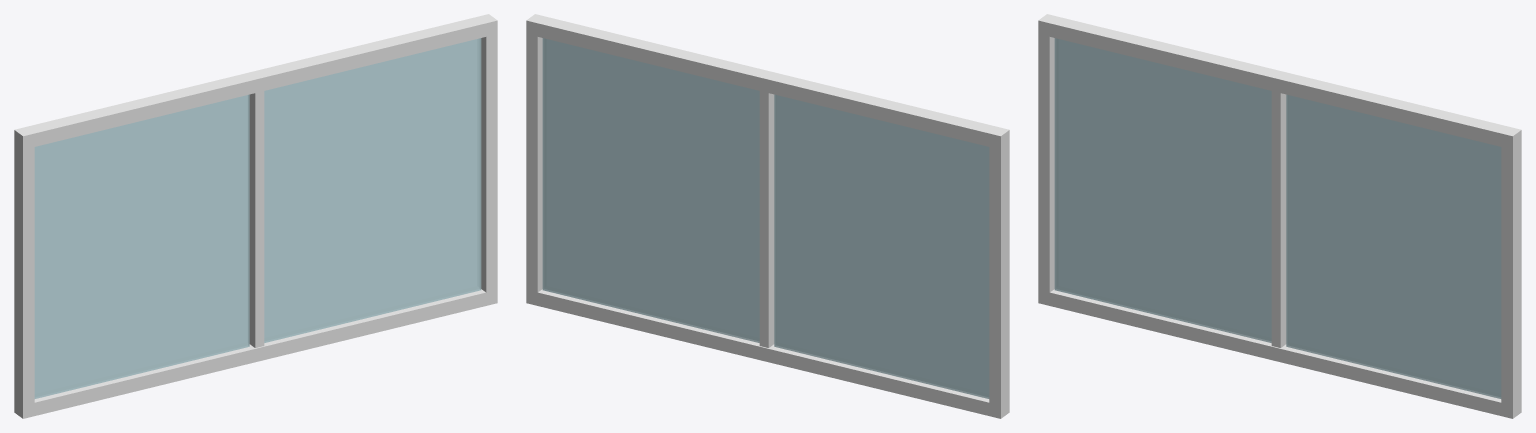
The model's file is baranda-blanco-esmerilado.glb.
3 views of the same model, side by side, from view 1: azimuth 30°, elevation 25°; view 2: azimuth 150°, elevation 25°; view 3: azimuth 330°, elevation 25° (orthographic).
Parts seen in each view (by area): view 1: glass0.45, glass-0.45, rail1.0250000000000001, rail0.025, post-0.9, post0.9, center; view 2: glass0.45, glass-0.45, rail1.0250000000000001, rail0.025, post-0.9, post0.9, center; view 3: glass-0.45, glass0.45, rail1.0250000000000001, rail0.025, post0.9, post-0.9, center.
Boxes of the visible parts, <box> form: glass0.45: <box>264,38,481,342</box>; glass-0.45: <box>34,94,249,398</box>; rail1.0250000000000001: <box>26,15,491,147</box>; rail0.025: <box>29,289,491,415</box>; post-0.9: <box>14,127,34,418</box>; post0.9: <box>478,14,497,305</box>; center: <box>248,71,264,347</box>; glass0.45: <box>542,38,759,342</box>; glass-0.45: <box>774,94,989,398</box>; rail1.0250000000000001: <box>532,15,999,148</box>; rail0.025: <box>532,289,994,417</box>; post-0.9: <box>989,127,1009,418</box>; post0.9: <box>526,14,545,304</box>; center: <box>759,71,775,347</box>; glass-0.45: <box>1054,38,1271,342</box>; glass0.45: <box>1286,94,1501,398</box>; rail1.0250000000000001: <box>1044,15,1511,147</box>; rail0.025: <box>1044,289,1506,417</box>; post0.9: <box>1501,127,1521,418</box>; post-0.9: <box>1038,14,1058,305</box>; center: <box>1271,71,1287,347</box>.
Bounding box in the file's own units: 1.85 × 1.05 × 0.06.
